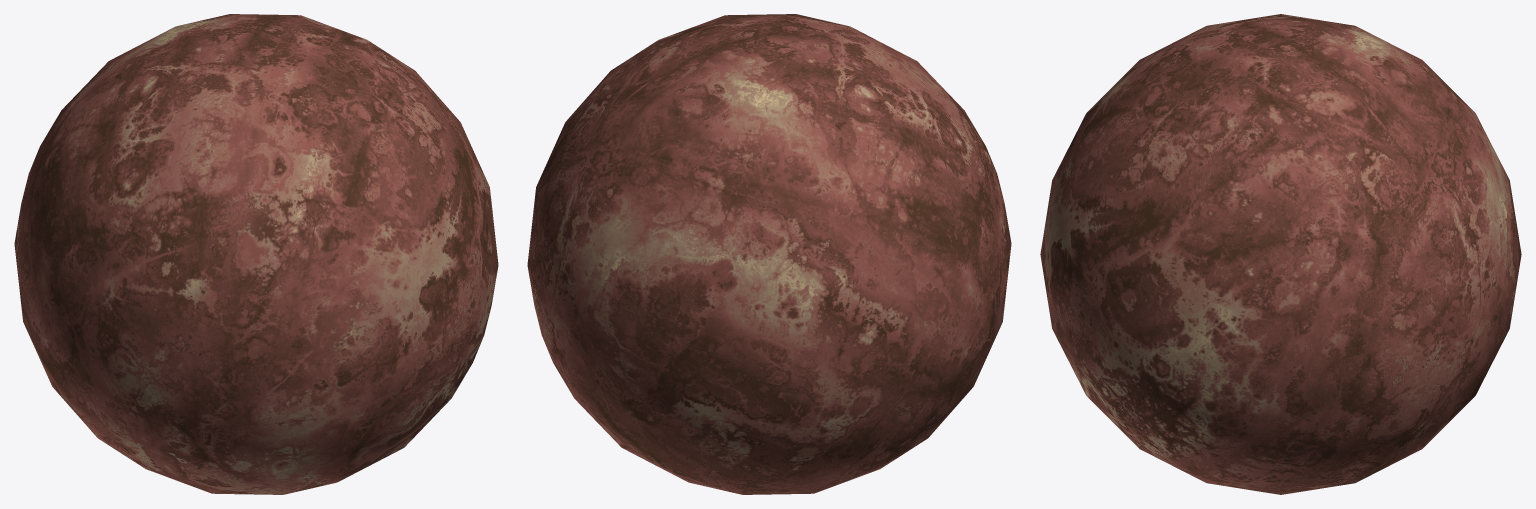
Rendered from rockyplanetnormal.glb.
3 views of the same model, side by side, from view 1: azimuth 30°, elevation 25°; view 2: azimuth 150°, elevation 25°; view 3: azimuth 270°, elevation 25° (orthographic).
Parts seen in each view (by area): view 1: Icosphere; view 2: Icosphere; view 3: Icosphere.
Part boxes in pixels (x1,y1,x2,y2): Icosphere: [14, 14, 498, 494]; Icosphere: [527, 14, 1011, 494]; Icosphere: [1040, 14, 1521, 494].
Bounding box in the file's own units: 300 × 300 × 300.
Materials: 1 (1 with a texture image).
